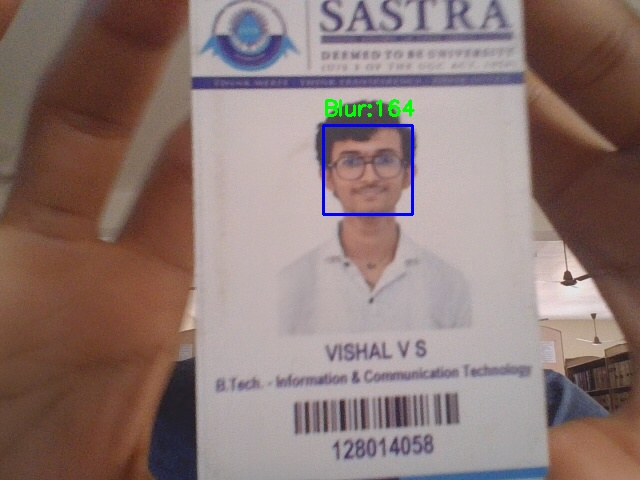fake: (323, 125, 412, 214)
